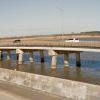Bridge: (4, 22, 99, 56)
